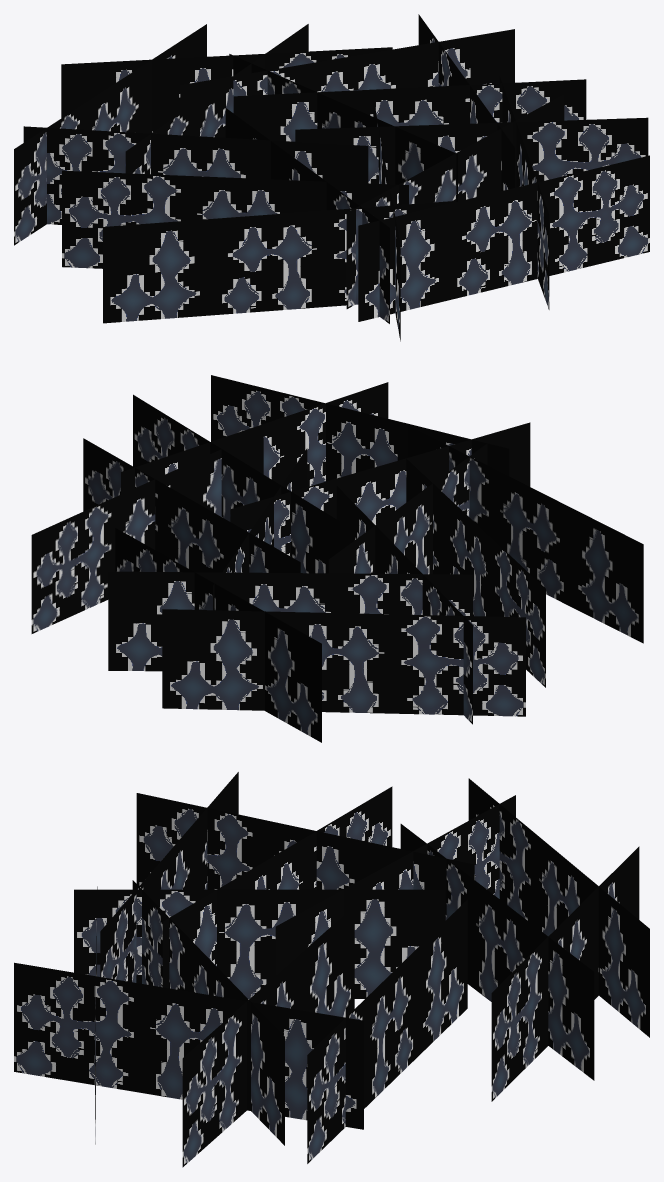
File: Sunken Tomb Grass.fbx
The picture shows the model from 3 angles, top to bottom: view 1: azimuth 30°, elevation 25°; view 2: azimuth 150°, elevation 25°; view 3: azimuth 270°, elevation 25°; orthographic projection. The views are drawn at different scales.
Parts seen in each view (by area): view 1: Grass_LOD0; view 2: Grass_LOD0; view 3: Grass_LOD0.
Part boxes in pixels (x1=…): Grass_LOD0: x1=14, y1=14, x2=649, y2=341; Grass_LOD0: x1=31, y1=375, x2=643, y2=742; Grass_LOD0: x1=14, y1=772, x2=649, y2=1167.
Size of what is drawn, in the model's own units: 707 by 126 by 661.
